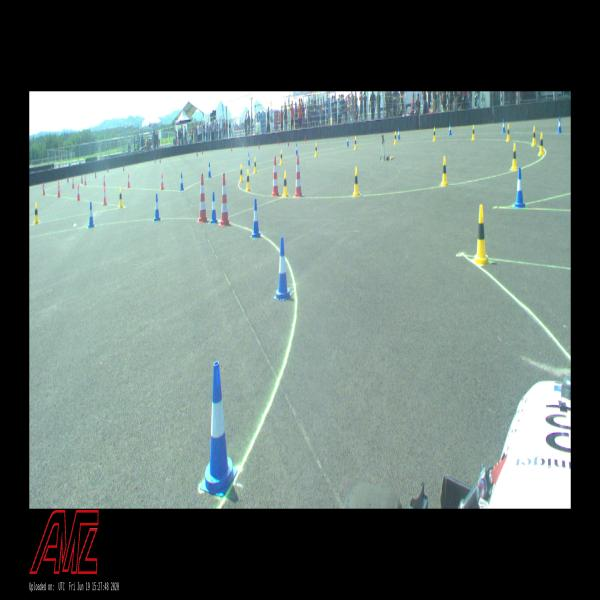blue_cone: (200, 361, 238, 497), (274, 236, 292, 301), (514, 167, 525, 208), (252, 199, 260, 237), (210, 192, 218, 224), (154, 194, 161, 220), (88, 202, 95, 227), (557, 117, 562, 133), (180, 173, 184, 190), (208, 162, 211, 178), (502, 119, 505, 132), (346, 135, 349, 146), (449, 123, 451, 135), (248, 153, 250, 165), (296, 143, 298, 155), (398, 128, 400, 139)
large_orange_cone: (218, 174, 232, 226), (197, 174, 209, 222), (270, 156, 280, 196), (294, 155, 303, 197)
orange_cone: (103, 186, 107, 205), (160, 174, 164, 189), (77, 185, 80, 200), (57, 183, 60, 197), (103, 174, 106, 186), (84, 175, 87, 185), (128, 174, 130, 187), (72, 177, 74, 188), (43, 184, 45, 194)
yellow_cone: (473, 205, 490, 265), (440, 156, 448, 186), (353, 167, 360, 196), (282, 171, 289, 197), (511, 143, 518, 169), (538, 132, 545, 156), (245, 169, 251, 191), (34, 203, 39, 224), (119, 188, 123, 208), (532, 126, 536, 146), (240, 164, 244, 182), (254, 157, 258, 174), (472, 125, 475, 140), (433, 127, 436, 141), (394, 131, 397, 145), (354, 136, 357, 150), (280, 150, 283, 164), (314, 143, 317, 156)
